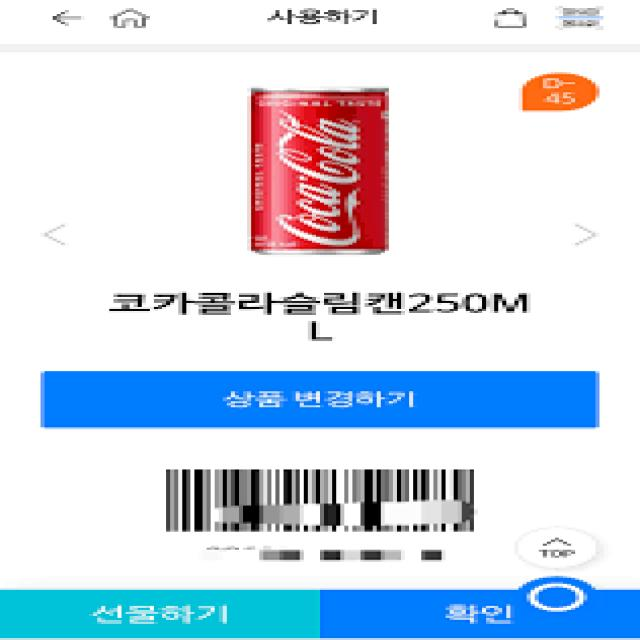Coca-Cola: (239, 77, 399, 262)
